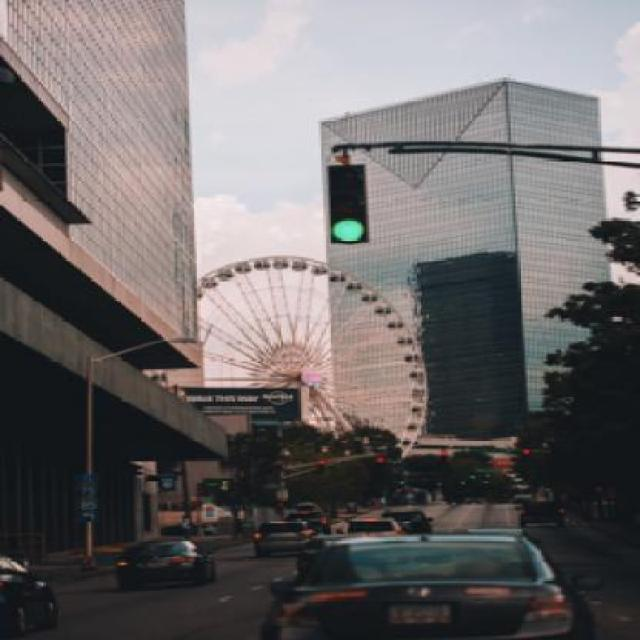Traffic_signal: (325, 162, 369, 245)
